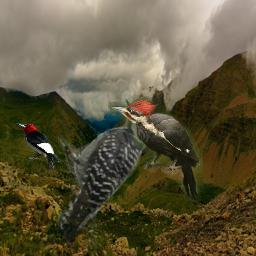Woodpecker: (58, 92, 156, 249), (108, 95, 207, 202), (16, 123, 61, 172)
